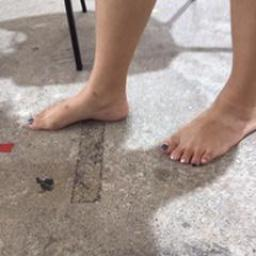Medial View -Right Foot-: (22, 63, 142, 141)
